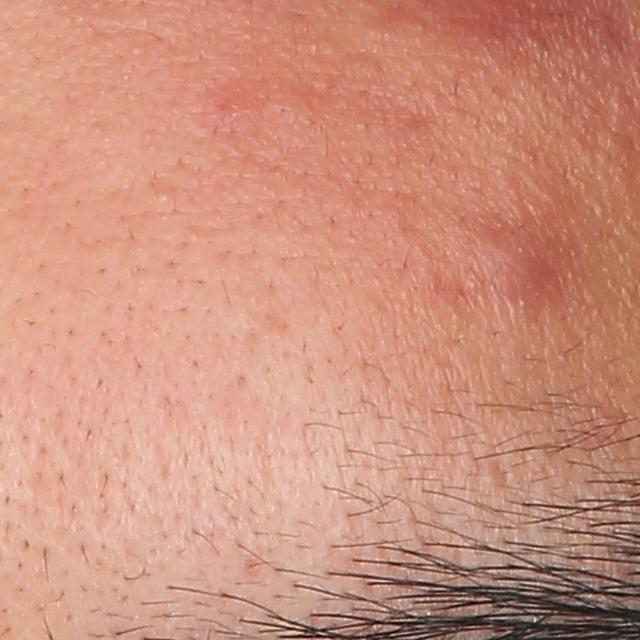comedo: (154, 184, 177, 209)
